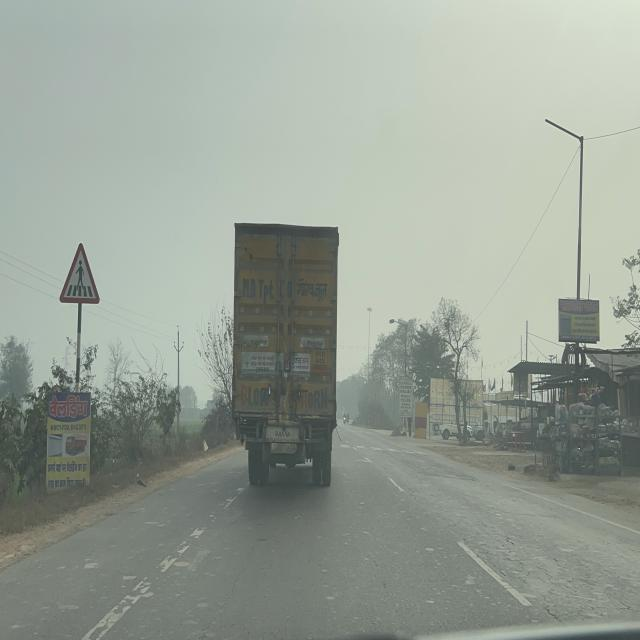PEDESTRIAN_CROSSING: (60, 242, 100, 306)
